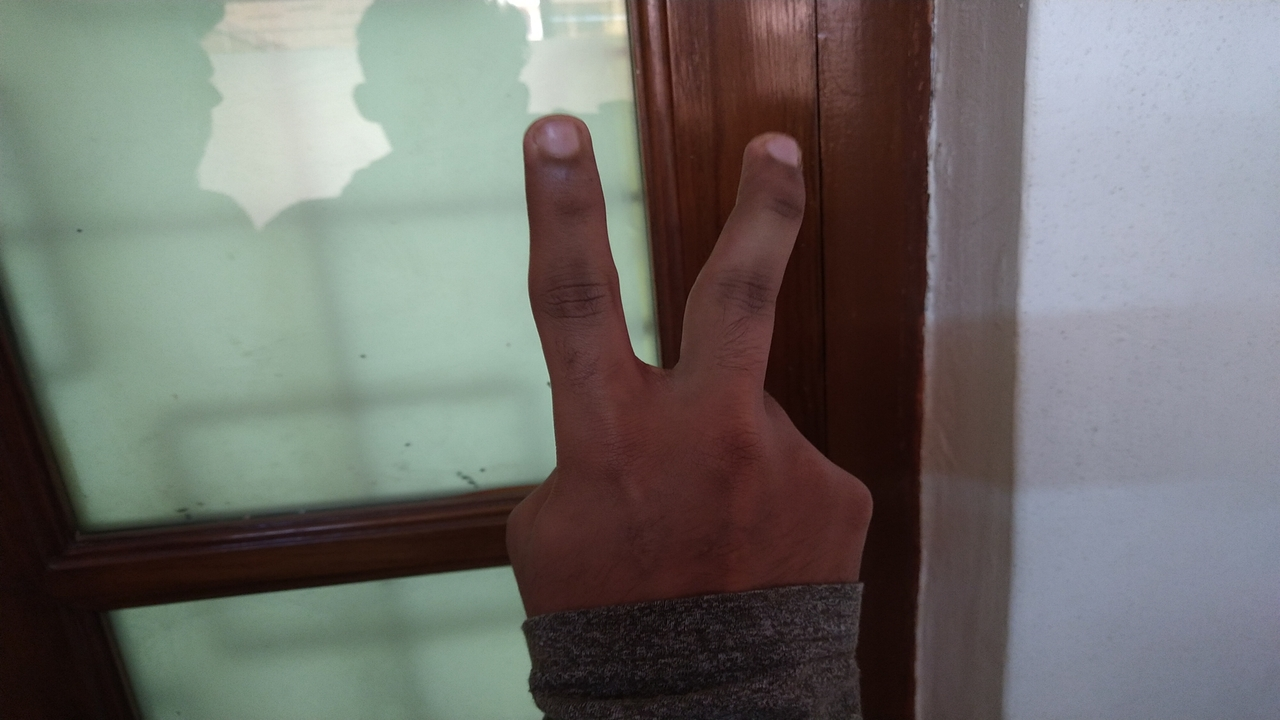fingertip: (516, 110, 598, 174), (736, 126, 810, 184)
